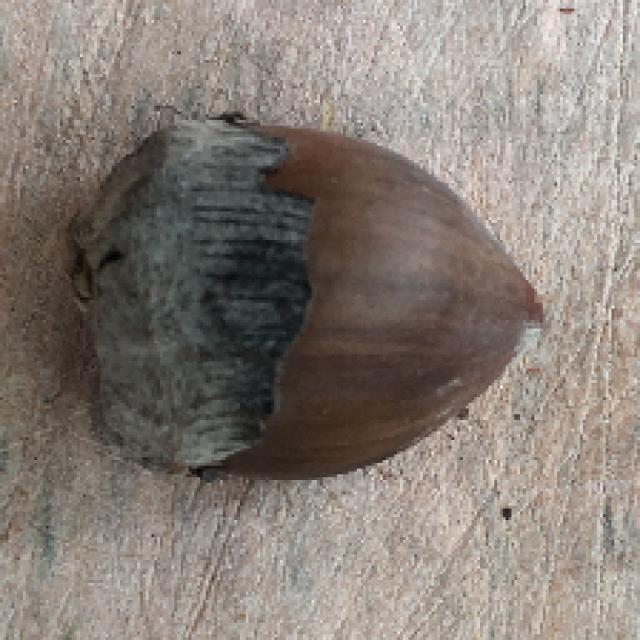damagedHazelnut: (39, 96, 562, 493)
